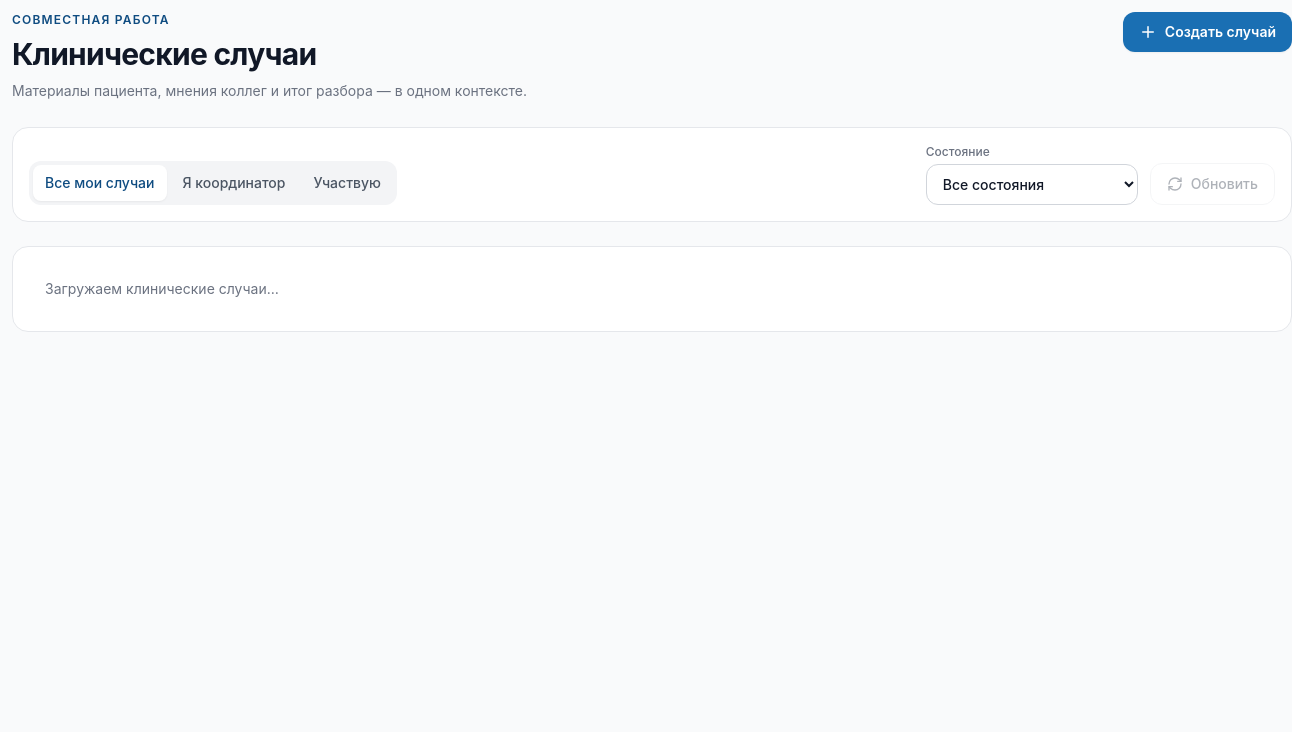
Test: does not show an empty state while loading and ignores superseded filters
Check: the message shows "Загружаем", box x1=45 y1=280 x2=279 y2=297
Step 1. Click the button "Участвую" → (347,183), box x1=302 y1=165 x2=393 y2=201
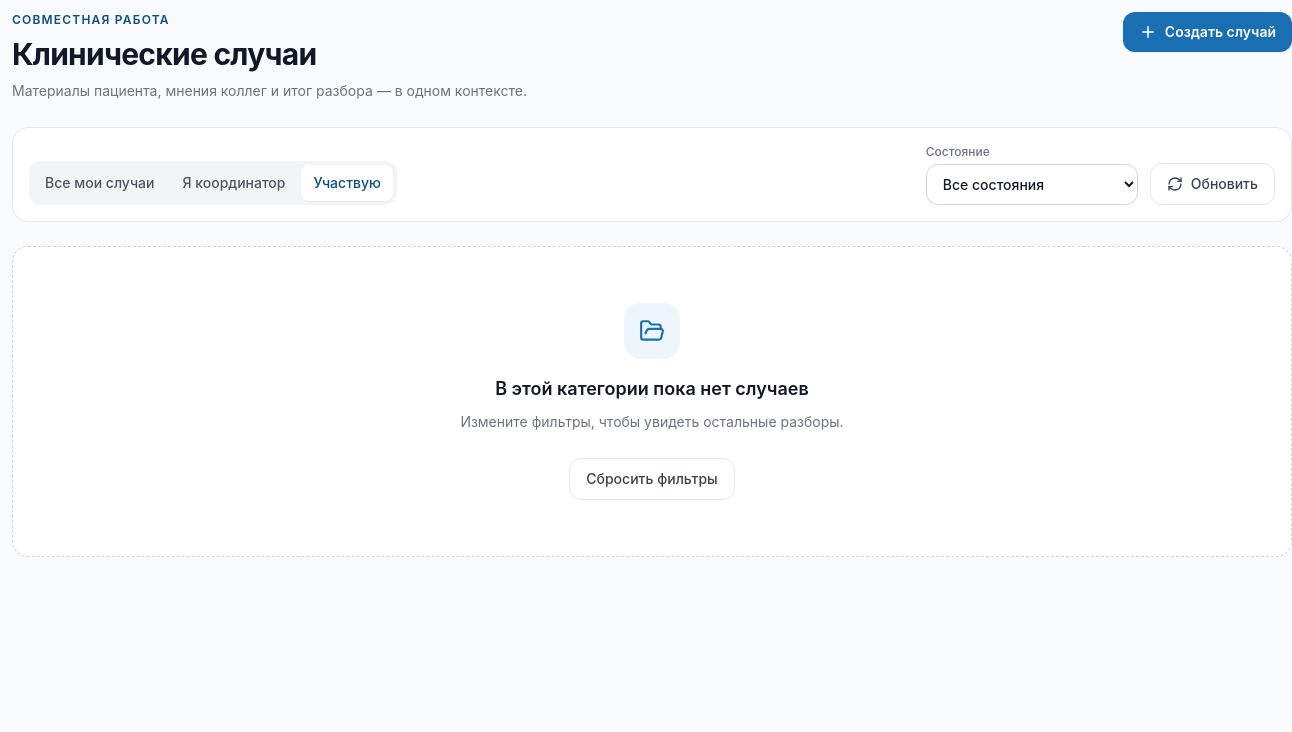
Check: the heading "В этой категории пока нет случаев" is shown, box x1=495 y1=378 x2=809 y2=399
Check: the message "Загружаем клинические случаи…" is gone
